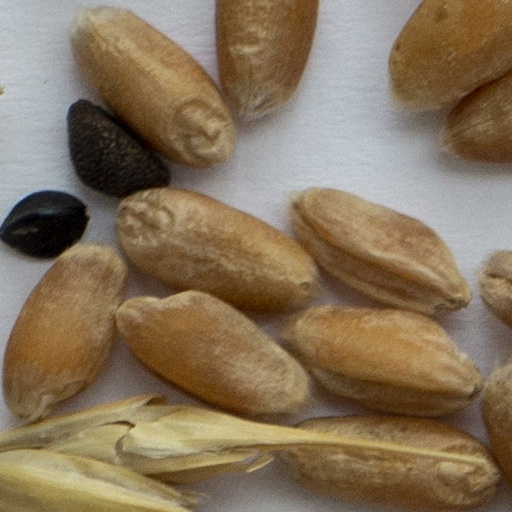Convolvulus-poly: (68, 102, 170, 195)
Fallopia-Convolvulus-poly: (0, 190, 87, 258)
